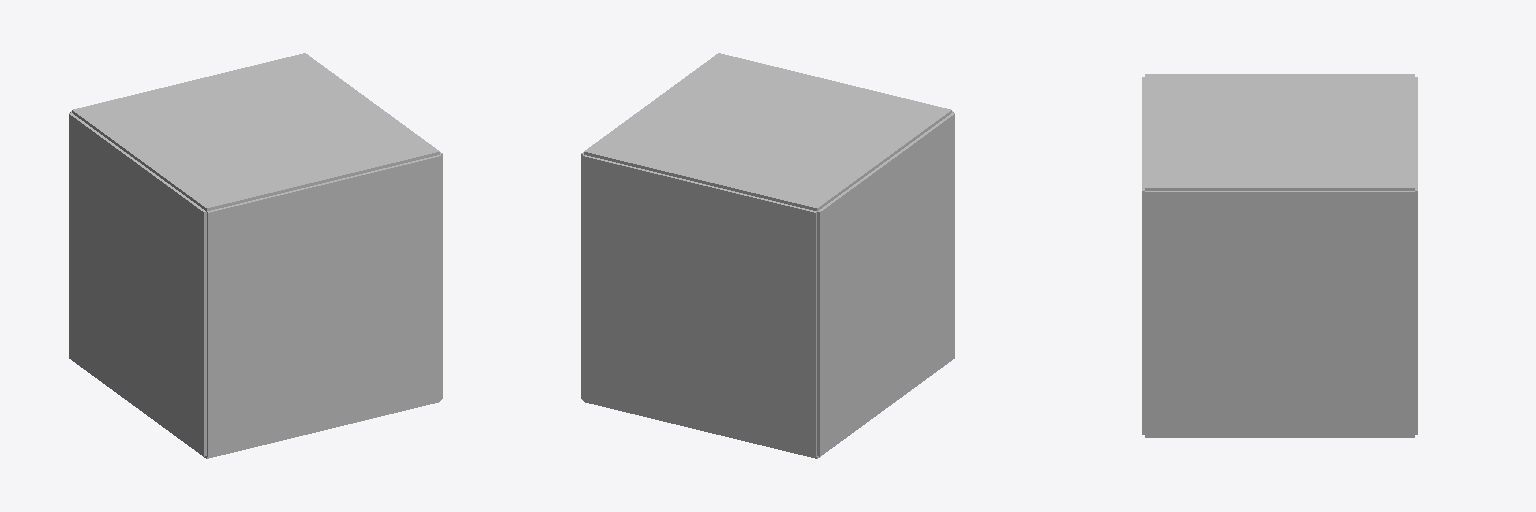
Rendered from 3DMapDeleteBlock.obj.
3 views of the same model, side by side, from view 1: azimuth 30°, elevation 25°; view 2: azimuth 150°, elevation 25°; view 3: azimuth 270°, elevation 25° (orthographic).
Parts seen in each view (by area): view 1: Cube; view 2: Cube; view 3: Cube.
Part boxes in pixels (left/top/right/bottom): Cube: left=69, top=53, right=442, bottom=458; Cube: left=581, top=53, right=954, bottom=458; Cube: left=1142, top=74, right=1417, bottom=437.
Size of the model in its own units: 41 by 41 by 41.